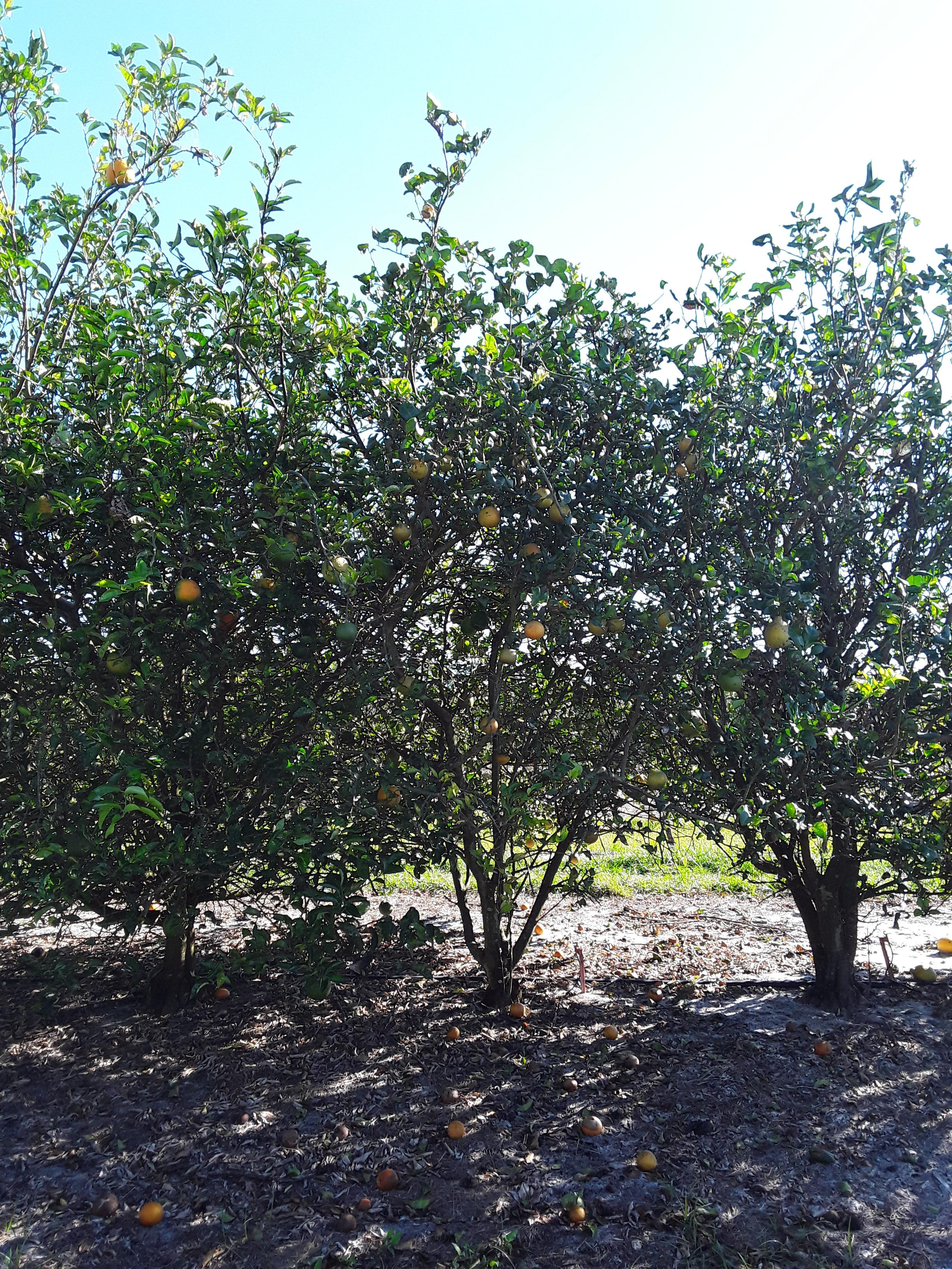fruit_on_ground: (104, 154, 136, 189), (173, 576, 201, 609), (31, 487, 58, 521), (718, 665, 749, 694), (104, 647, 134, 676), (320, 557, 351, 584), (764, 621, 794, 648), (404, 452, 431, 481), (374, 783, 403, 809), (388, 518, 414, 546), (210, 608, 241, 631), (886, 437, 915, 461), (254, 574, 281, 599), (681, 711, 706, 736), (587, 611, 608, 640), (478, 505, 502, 530), (548, 503, 574, 526), (674, 433, 701, 455), (652, 605, 676, 629), (518, 542, 543, 565), (532, 485, 555, 509), (398, 674, 421, 698), (606, 610, 628, 634), (683, 452, 708, 473), (279, 530, 301, 553), (336, 620, 358, 643), (496, 647, 520, 668), (525, 620, 547, 640), (478, 714, 498, 736), (509, 453, 533, 471), (291, 641, 313, 659), (648, 771, 666, 789), (583, 824, 600, 843), (441, 456, 460, 472), (673, 461, 689, 480), (472, 466, 489, 482), (595, 411, 611, 427), (317, 611, 333, 627), (494, 750, 510, 766), (566, 854, 583, 869), (420, 203, 437, 218), (270, 375, 284, 388), (636, 773, 647, 788), (504, 732, 516, 745), (542, 818, 555, 828), (526, 838, 535, 848)
fruit_on_tree: (134, 1199, 172, 1228), (372, 1163, 401, 1195), (93, 1190, 121, 1216), (914, 960, 938, 988), (635, 1148, 659, 1175), (581, 1109, 605, 1135), (832, 1176, 858, 1198), (567, 1202, 587, 1227), (699, 1114, 720, 1137), (444, 1120, 465, 1142), (935, 933, 952, 960), (814, 1038, 834, 1058), (143, 894, 164, 913), (280, 1125, 299, 1146), (600, 1022, 622, 1040), (211, 985, 232, 1003), (621, 1053, 641, 1071), (443, 1085, 460, 1106), (530, 918, 546, 940), (508, 1001, 524, 1023), (332, 1125, 349, 1144), (647, 986, 667, 1002), (442, 1027, 461, 1043), (337, 1215, 356, 1231), (563, 1071, 578, 1091), (358, 1196, 372, 1214), (32, 946, 47, 960), (519, 901, 532, 913), (236, 1111, 250, 1122), (519, 901, 530, 910), (575, 922, 586, 931), (577, 924, 589, 930), (556, 950, 564, 956)
